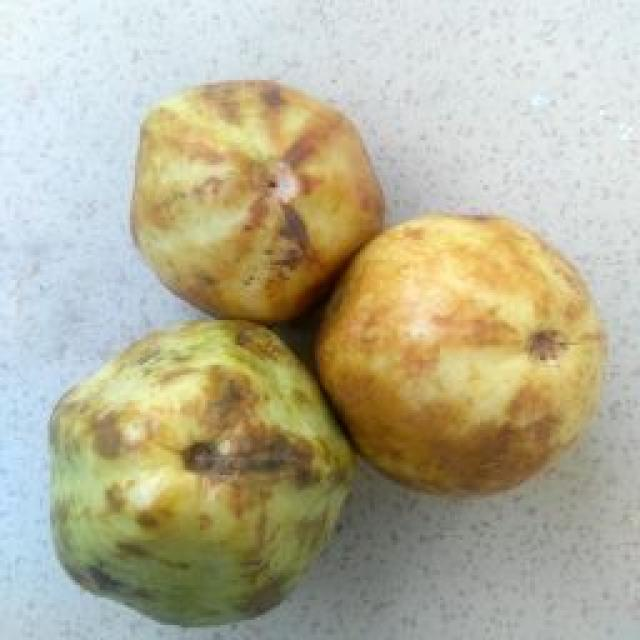Bad_Guava: (50, 321, 354, 624), (134, 80, 381, 322)
